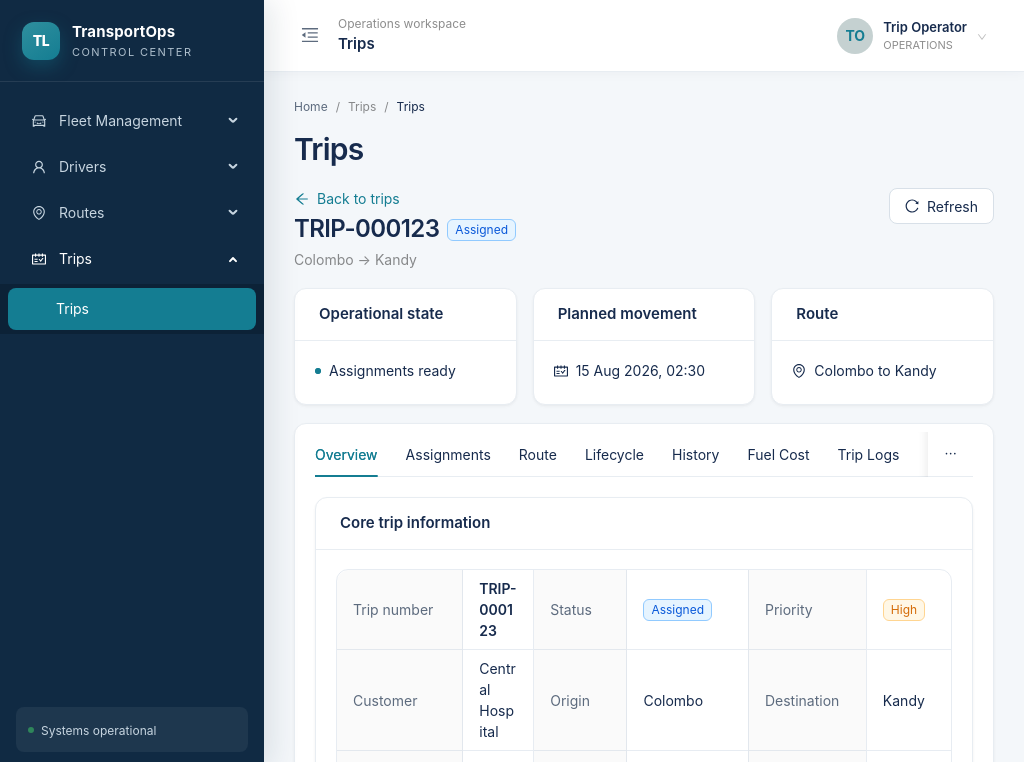
Test: TripDetailsPage › renders en-route operational events in the Trip Logs tab
Click the tab "Trip Logs" at [868, 454], box 838,444 -> 899,465
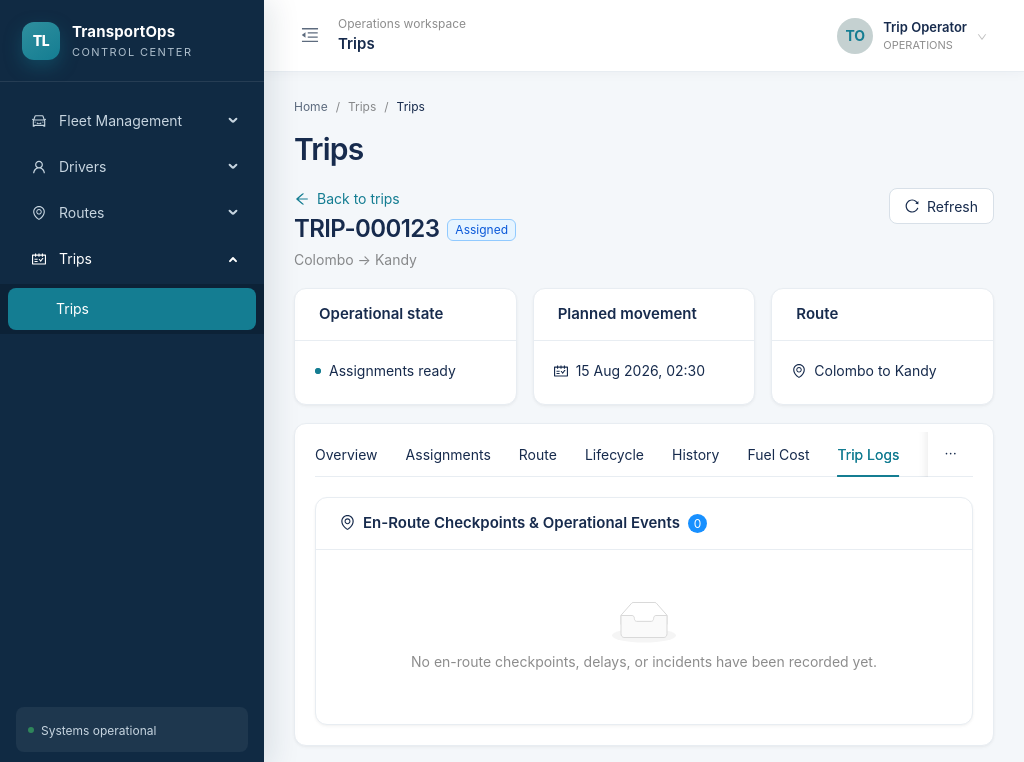
Now the text "En-Route Checkpoints & Operational Events" is shown, box 363,513 -> 680,532
